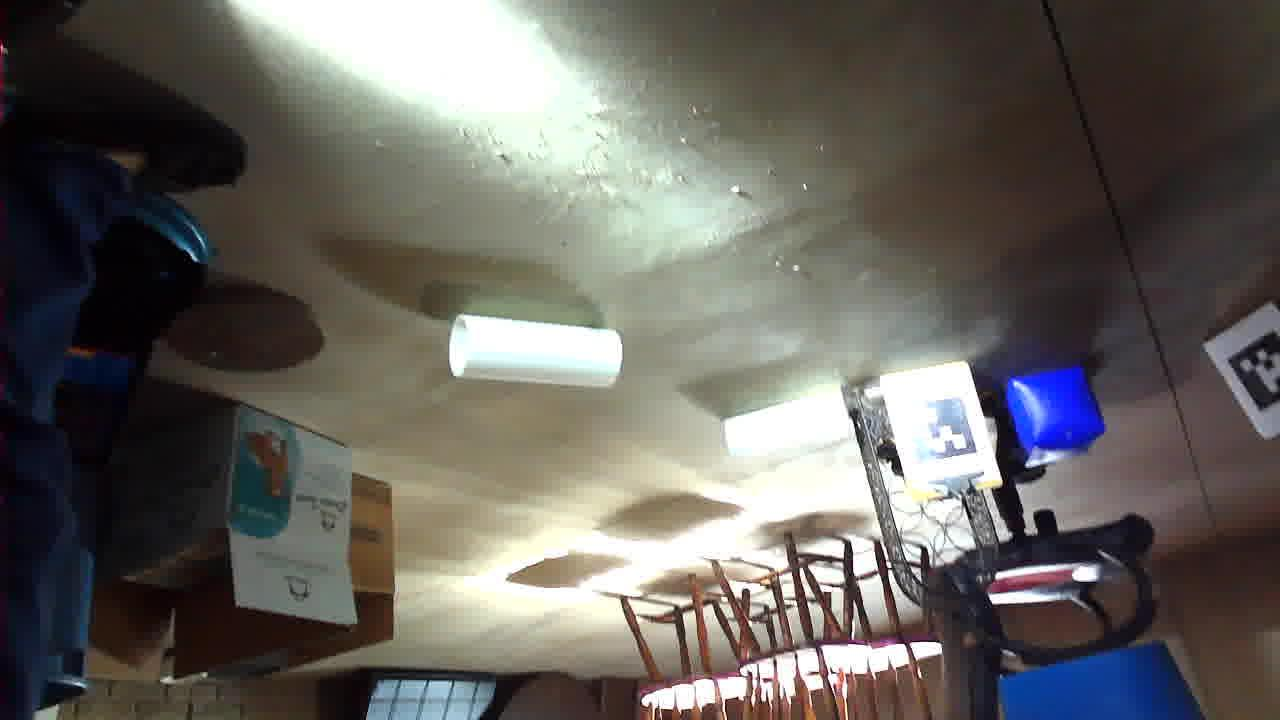coral: (657, 333, 830, 406), (428, 262, 558, 336)
